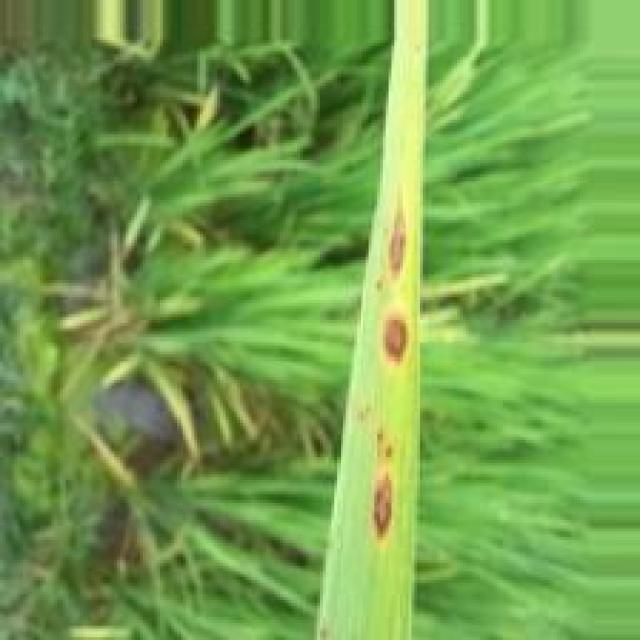Brown_Spot: (385, 206, 411, 298), (368, 469, 399, 546), (380, 310, 410, 370)
